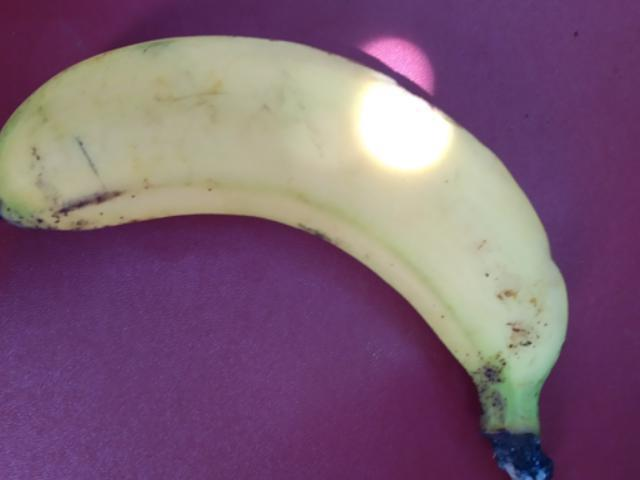freshripe: (2, 25, 586, 389)
